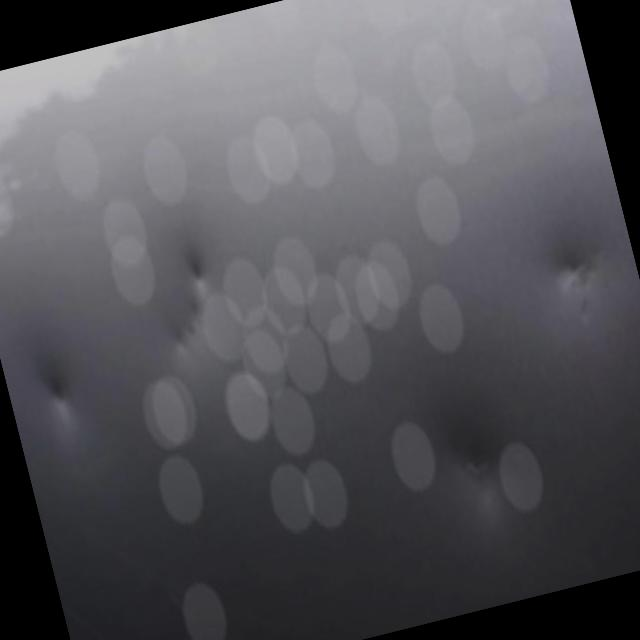dent: (5, 358, 104, 482), (148, 254, 244, 360), (541, 259, 629, 347)
